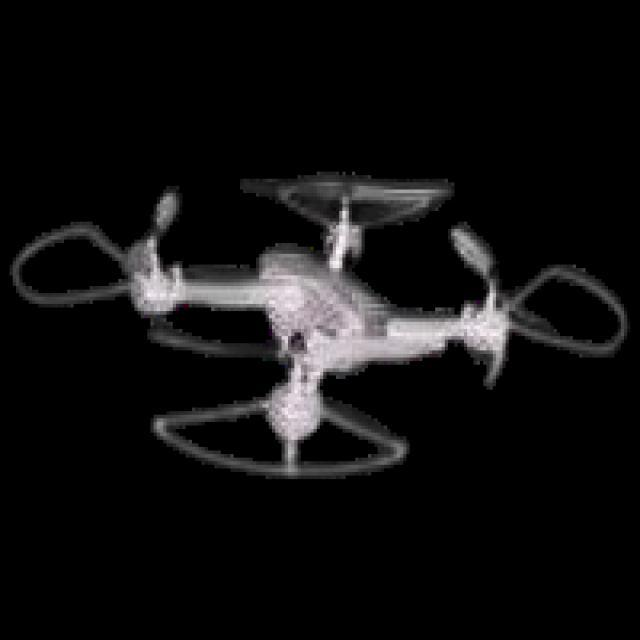drone: (10, 144, 632, 480)
